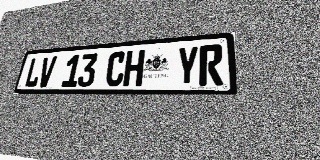1: (61, 54, 82, 87)
3: (77, 53, 98, 87)
C: (104, 51, 127, 87)
H: (123, 50, 145, 86)
L: (24, 57, 44, 87)
R: (199, 44, 223, 86)
V: (37, 56, 57, 87)
Y: (175, 46, 199, 86)
